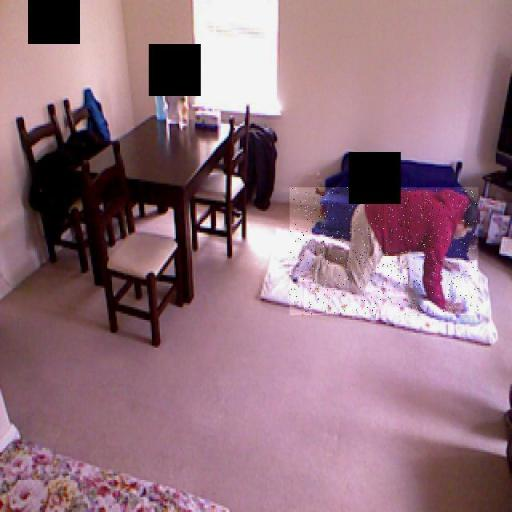Fall: (290, 188, 479, 316)
